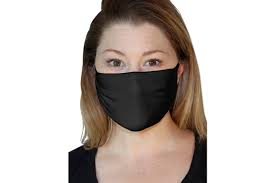mask: (83, 58, 188, 135)
